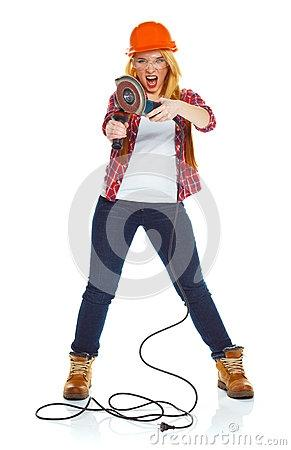helmet: (128, 21, 179, 61)
no_wear: (107, 88, 188, 201)
